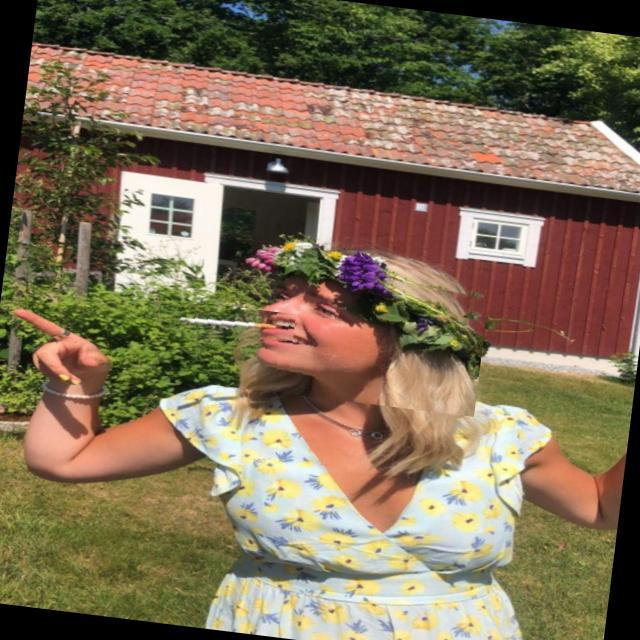cigarette: (171, 299, 296, 350)
